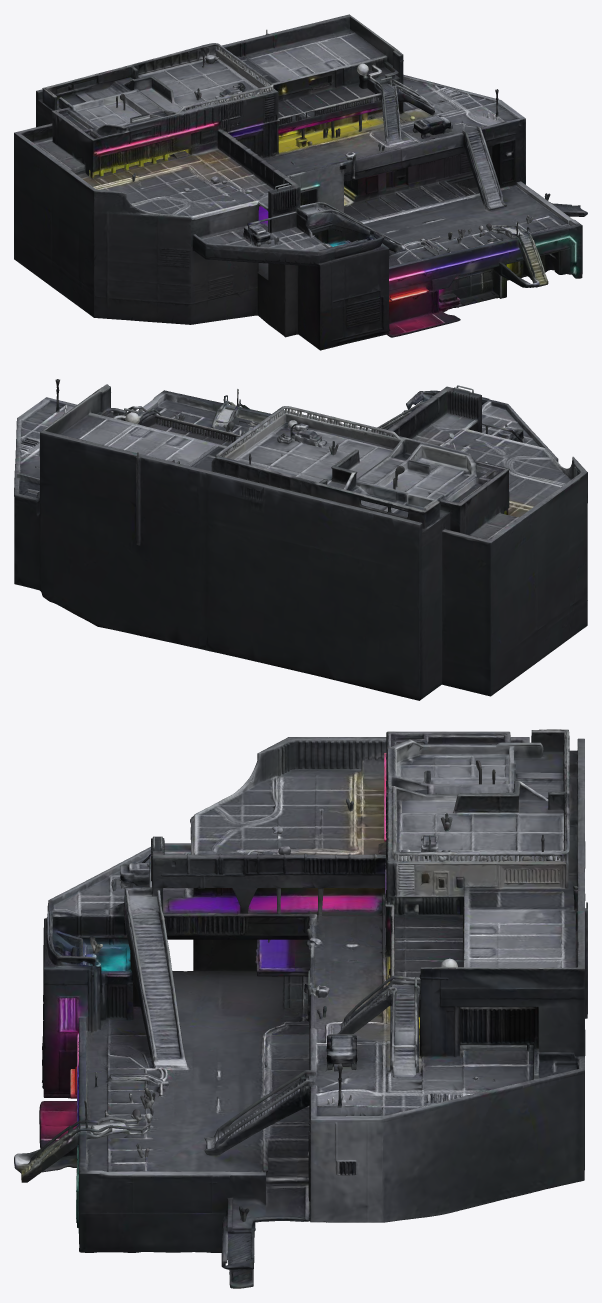
File: parking-garage.glb
3 renders of one model, top to bottom at view 1: azimuth 30°, elevation 25°; view 2: azimuth 150°, elevation 25°; view 3: azimuth 270°, elevation 25°, orthographic. The views are drawn at different scales.
Visible parts, largest first — view 1: tripo_node_604247a9-af07-485a-9550-6467681f23d7; view 2: tripo_node_604247a9-af07-485a-9550-6467681f23d7; view 3: tripo_node_604247a9-af07-485a-9550-6467681f23d7.
Part boxes in pixels (bbox=[...]): tripo_node_604247a9-af07-485a-9550-6467681f23d7: bbox=[14, 14, 587, 350]; tripo_node_604247a9-af07-485a-9550-6467681f23d7: bbox=[14, 379, 587, 700]; tripo_node_604247a9-af07-485a-9550-6467681f23d7: bbox=[14, 729, 587, 1288].
Size of the model in its own units: 0.9834 by 0.3348 by 0.6836.
1 material, 1 textured.
